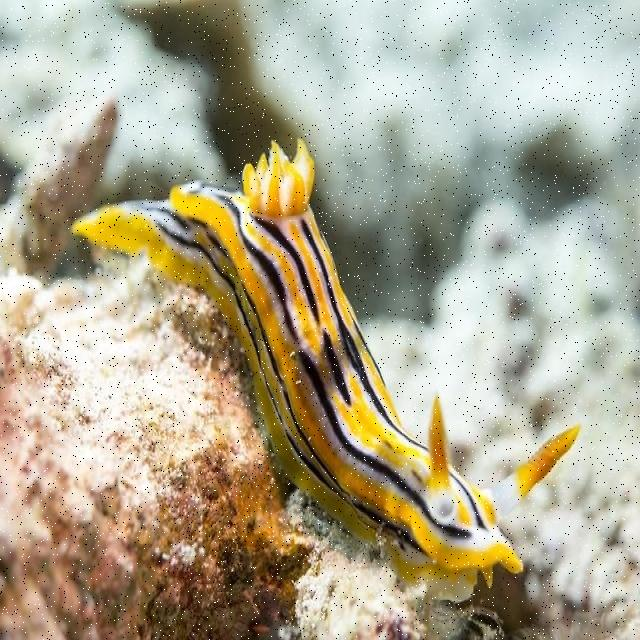reefs: (68, 134, 579, 591)
sea-floor: (0, 92, 318, 639)
